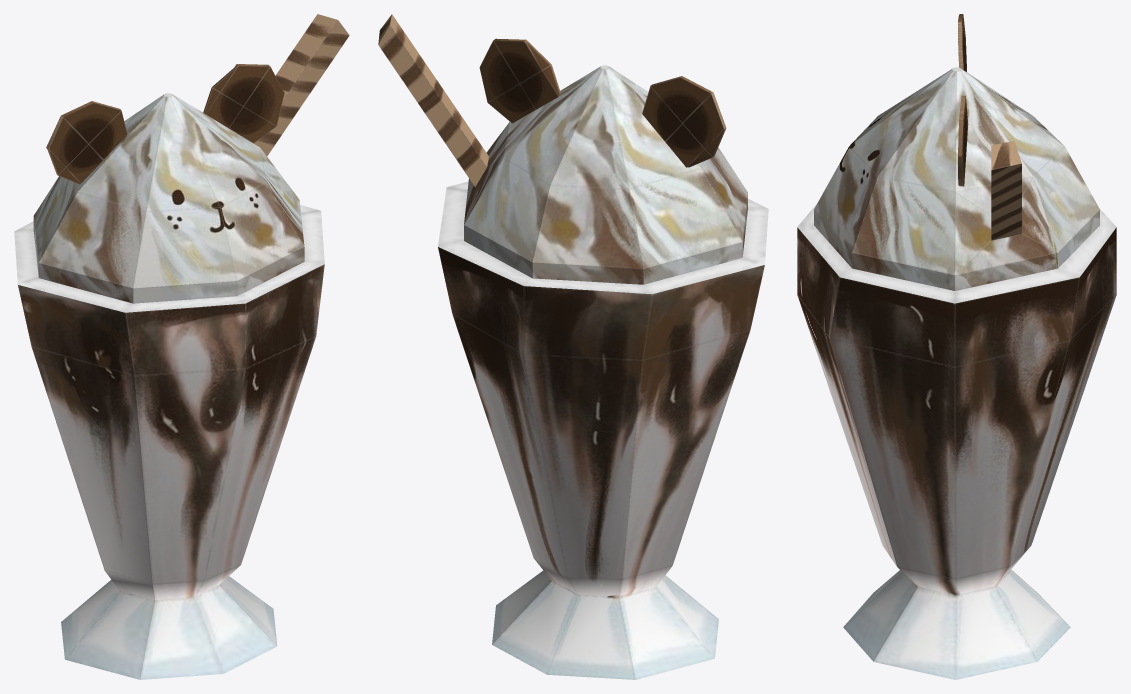
Rendered from KumaKokoaShake.fbx.
3 views of the same model, side by side, from view 1: azimuth 30°, elevation 25°; view 2: azimuth 150°, elevation 25°; view 3: azimuth 270°, elevation 25° (orthographic). The views are drawn at different scales.
Parts seen in each view (by area): view 1: KumaKokoa1, OrejaDer2, OrejaIZq1; view 2: KumaKokoa1, OrejaIZq1, OrejaDer2; view 3: KumaKokoa1, OrejaDer2.
Part boxes in pixels (bbox=[...]): KumaKokoa1: bbox=[14, 14, 349, 679]; OrejaDer2: bbox=[203, 64, 284, 143]; OrejaIZq1: bbox=[46, 101, 127, 184]; KumaKokoa1: bbox=[378, 14, 768, 679]; OrejaIZq1: bbox=[642, 76, 726, 167]; OrejaDer2: bbox=[479, 38, 560, 123]; KumaKokoa1: bbox=[797, 67, 1116, 679]; OrejaDer2: bbox=[958, 95, 968, 186].
Size of the model in its own units: 0.4774 by 0.726 by 0.3651.
